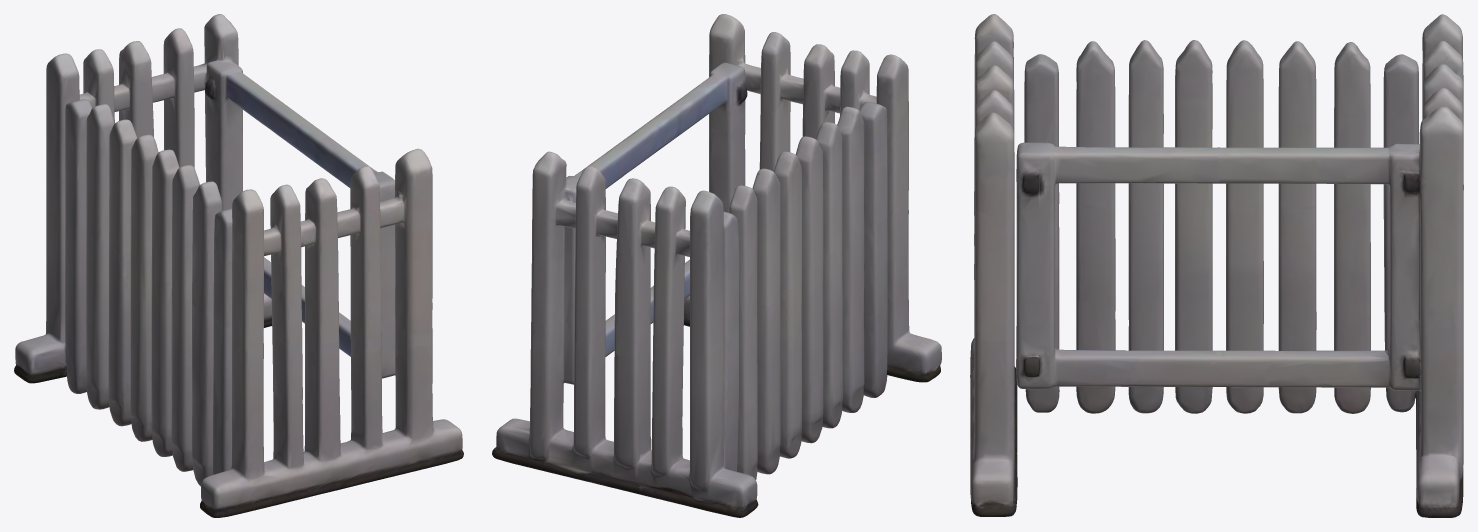
The model's file is picket_fence_gate.glb.
3 views of the same model, side by side, from view 1: azimuth 30°, elevation 25°; view 2: azimuth 150°, elevation 25°; view 3: azimuth 270°, elevation 25° (orthographic). The views are drawn at different scales.
Parts seen in each view (by area): view 1: tripo_node_60858b4d-2e7a-4633-93de-881898640104; view 2: tripo_node_60858b4d-2e7a-4633-93de-881898640104; view 3: tripo_node_60858b4d-2e7a-4633-93de-881898640104.
Part boxes in pixels (left/top/right/bottom): tripo_node_60858b4d-2e7a-4633-93de-881898640104: left=14, top=14, right=463, bottom=517; tripo_node_60858b4d-2e7a-4633-93de-881898640104: left=492, top=14, right=941, bottom=517; tripo_node_60858b4d-2e7a-4633-93de-881898640104: left=970, top=14, right=1463, bottom=517.
Size of the model in its own units: 0.6836 by 0.8371 by 0.9486.
1 material, 1 textured.
